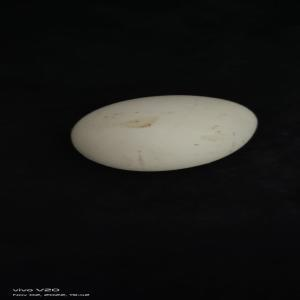Egg: (72, 93, 258, 173)
